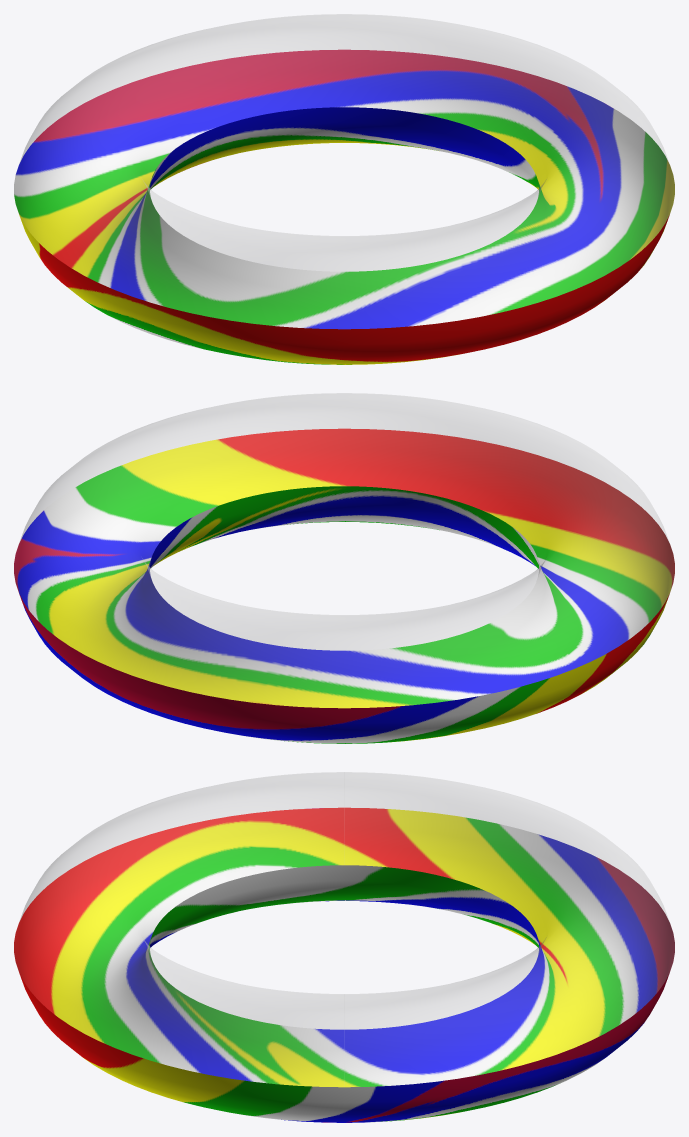
3 views of the same model, one above another, from view 1: azimuth 30°, elevation 25°; view 2: azimuth 150°, elevation 25°; view 3: azimuth 270°, elevation 25° (orthographic).
Visible parts, largest first — view 1: Torus ext_0, Torus_1; view 2: Torus ext_0, Torus_1; view 3: Torus ext_0, Torus_1.
Part boxes in pixels (x1,y1,x2,y2): Torus ext_0: [14, 49, 674, 364]; Torus_1: [14, 14, 674, 328]; Torus ext_0: [14, 428, 674, 743]; Torus_1: [14, 393, 674, 707]; Torus ext_0: [14, 807, 674, 1122]; Torus_1: [14, 772, 674, 1086].
Size of the model in its own units: 1.98 by 0.3892 by 1.98.
Materials: 2 (1 with a texture image).
